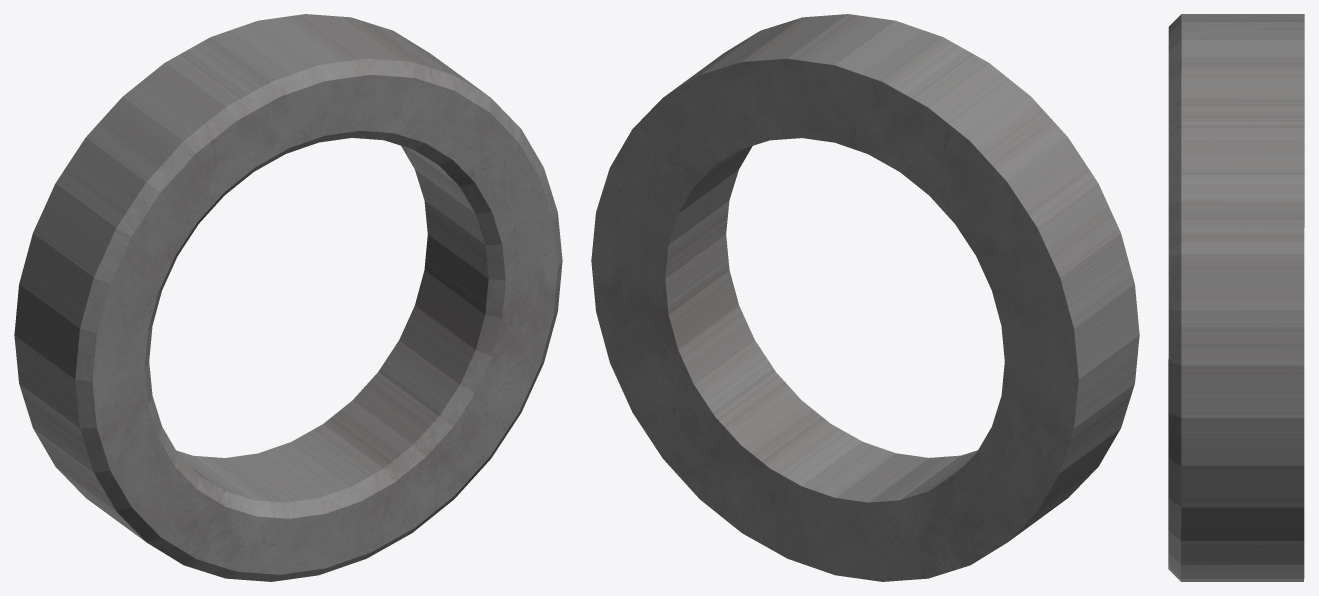
Rendered from stopbuttonrim.obj.
3 renders of one model, left to right at view 1: azimuth 30°, elevation 25°; view 2: azimuth 150°, elevation 25°; view 3: azimuth 270°, elevation 25°, orthographic.
Visible parts, largest first — view 1: stopbuttonrim; view 2: stopbuttonrim; view 3: stopbuttonrim.
Boxes of the visible parts, x1,y1,x2,y2 form: stopbuttonrim: [14, 14, 562, 581]; stopbuttonrim: [591, 14, 1139, 581]; stopbuttonrim: [1168, 14, 1304, 581].
Size of the model in its own units: 0.031 by 0.031 by 0.00742.
1 material, 1 textured.
